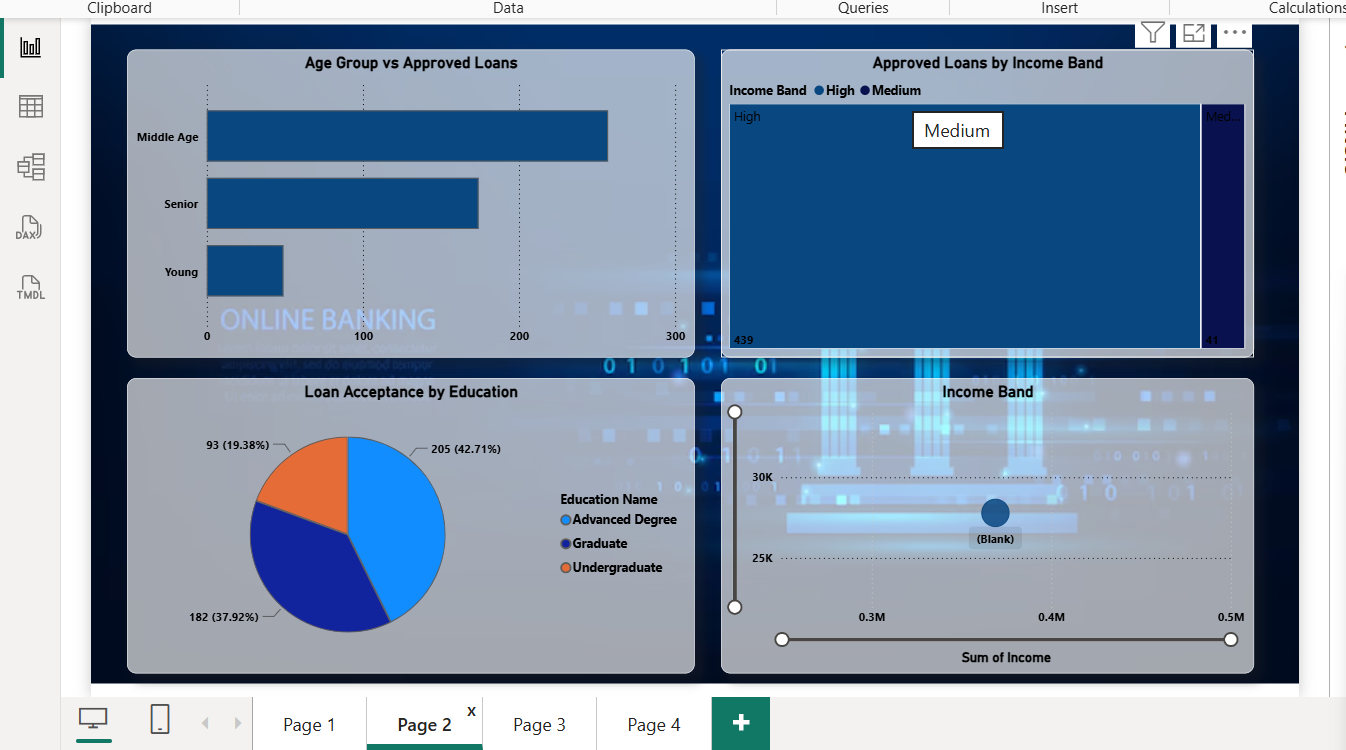

This screenshot's page, from the dashboard's own definition file:
{"tool":"powerbi","page":{"name":"Page 2","canvas":[1280,720],"ordinal":1},"visuals":[{"type":"barChart","title":"Age Group vs Approved Loans","fields":{"Category":["Data.Age Group"],"Y":["Data.Approved Loans"]},"box":[38.3,33.3,601.7,326.7],"z":0},{"type":"pieChart","title":"Loan Acceptance by Education","fields":{"Category":["Data.Education Name"],"Y":["Data.Approved Loans"]},"box":[38.3,381.7,601.7,313.3],"z":1000},{"type":"treemap","fields":{"Group":["Data.Income Band"],"Values":["Data.Approved Loans"]},"box":[668.3,33.3,565,326.7],"z":2000},{"type":"scatterChart","title":"Income Band","fields":{"X":["Sum(Data.Income)"],"Y":["Sum(Data.Loan Amount)"],"Size":["Sum(Data.Mortgage)"]},"box":[668.3,381.7,565,313.3],"z":3000}]}

Visuals, with their boxes on the page's 1280x720 design canvas (x1, y1, x2, y2). These are canvas units, not pixel positions in the 1346x750 screenshot, which may show the page scaled, cropped or inside an application window:
"Age Group vs Approved Loans" barChart: {"left": 38, "top": 33, "right": 640, "bottom": 360}
"Loan Acceptance by Education" pieChart: {"left": 38, "top": 382, "right": 640, "bottom": 695}
treemap - Data.Income Band x Data.Approved Loans: {"left": 668, "top": 33, "right": 1233, "bottom": 360}
"Income Band" scatterChart: {"left": 668, "top": 382, "right": 1233, "bottom": 695}
